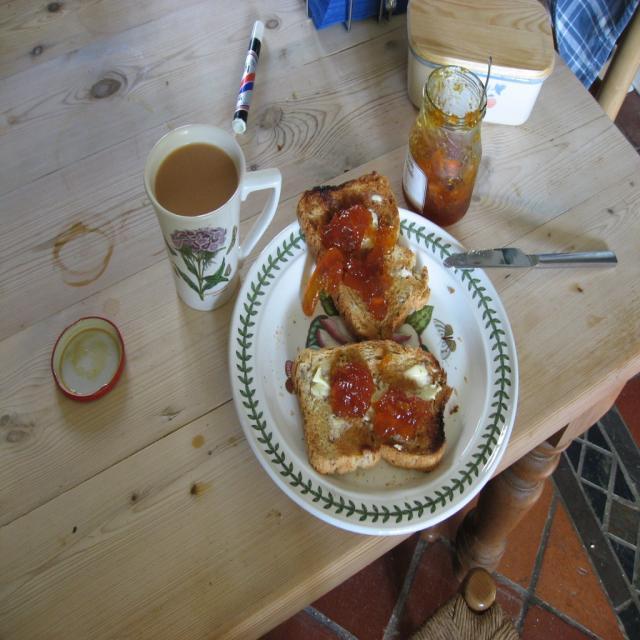Tea: (157, 142, 239, 216)
